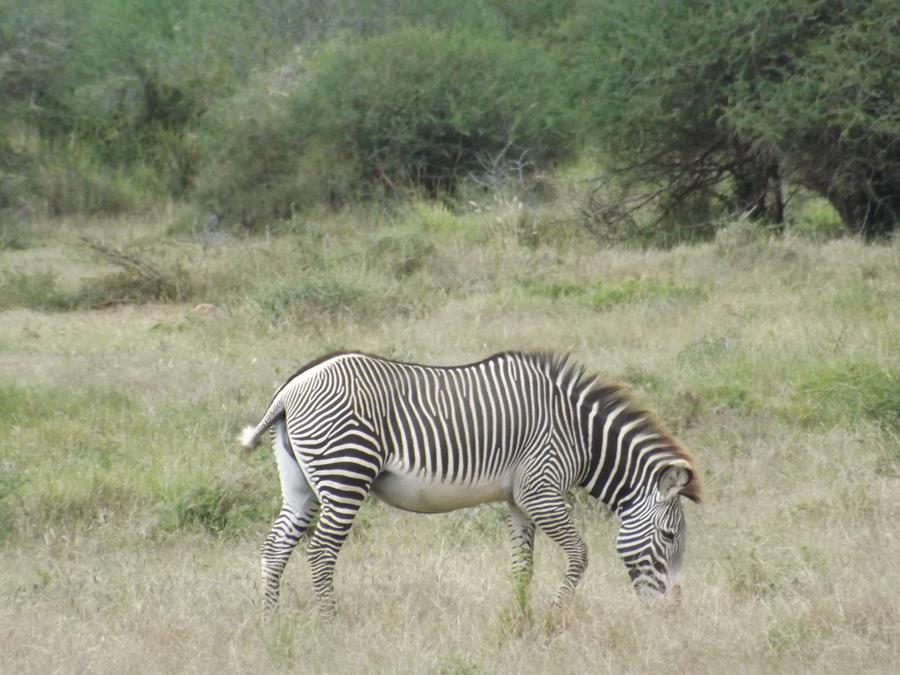zebra_grevys: (275, 341, 570, 500)
